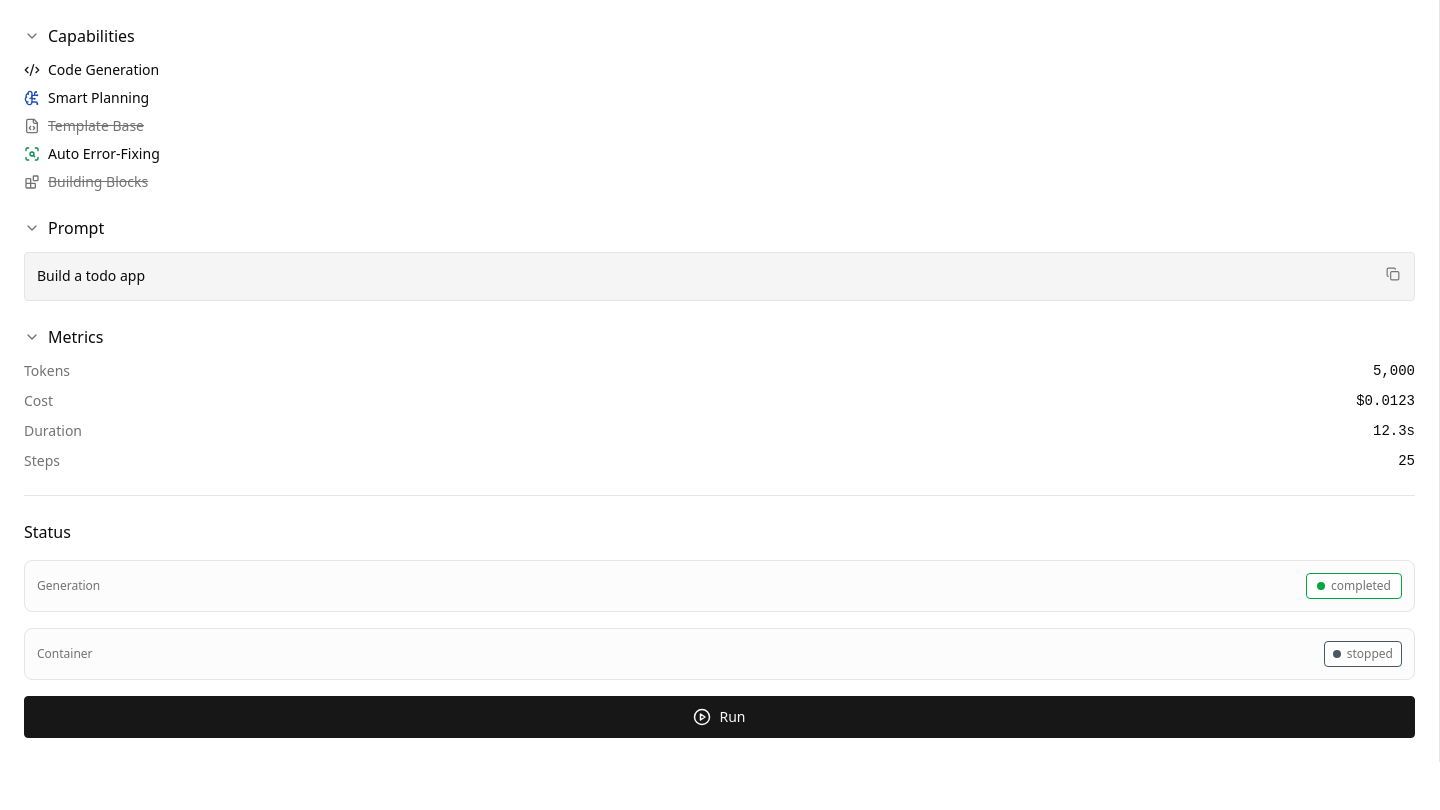
SessionSidebar › Collapsible Sections › can collapse prompt section
Check: the text "Build a todo app" is shown, box [37, 266, 145, 285]
// Click to collapse
Click the button with aria-label "toggle prompt".
click(76, 228)  # box [24, 216, 1415, 240]
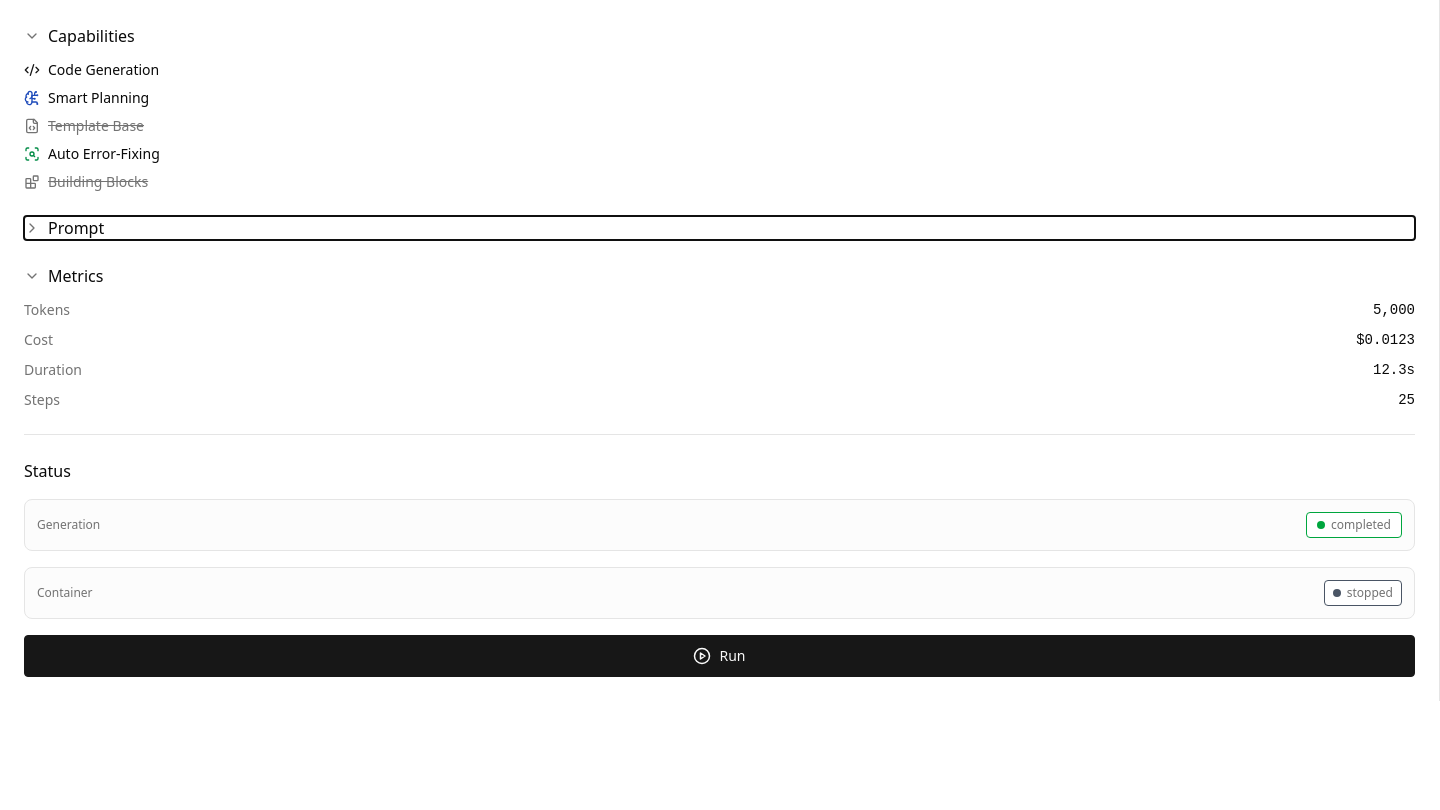
Check: the text "Build a todo app" is gone
